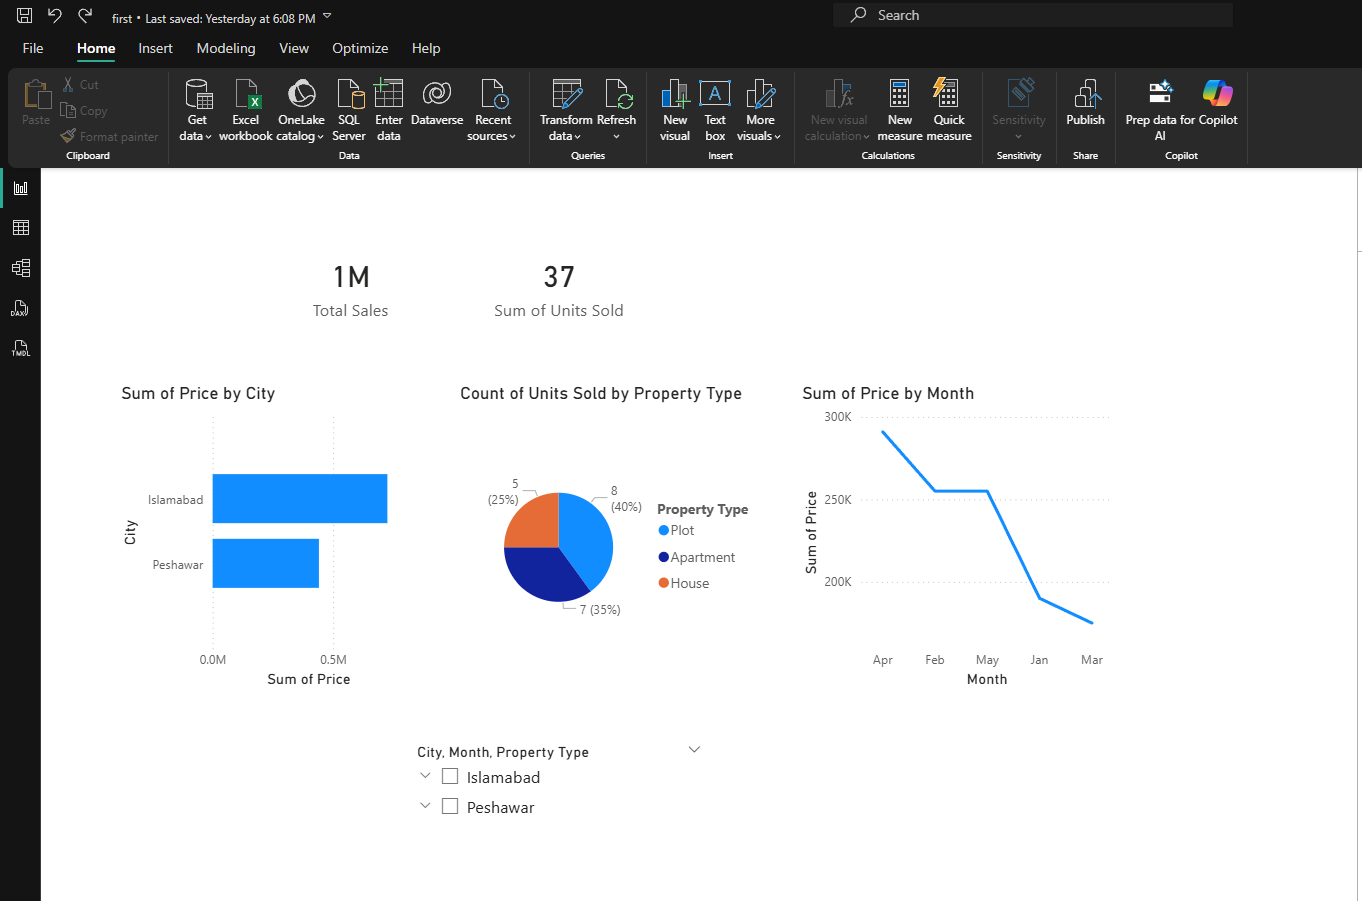

The page's visual inventory and layout, read from the dashboard file:
{"tool":"powerbi","page":{"name":"Page 1","canvas":[1280,720],"ordinal":0},"visuals":[{"type":"card","fields":{"Values":["Sum(SalesData.Units Sold)"]},"box":[444.5,60.3,160.5,98.2],"z":0},{"type":"card","fields":{"Values":["Sum(SalesData.Price)"]},"box":[228.6,60.3,144.9,98.2],"z":1000},{"type":"barChart","fields":{"Category":["SalesData.City"],"Y":["Sum(SalesData.Price)"]},"box":[72.9,209.1,300.5,300.5],"z":2000},{"type":"pieChart","fields":{"Category":["SalesData.Property Type"],"Y":["CountNonNull(SalesData.Units Sold)"]},"box":[402.7,209.1,300.5,300.5],"z":3000},{"type":"lineChart","fields":{"Category":["SalesData.Month"],"Y":["Sum(SalesData.Price)"]},"box":[735.3,209.1,312.2,300.5],"z":4000},{"type":"slicer","fields":{"Values":["SalesData.City","SalesData.Month","SalesData.Property Type"]},"box":[353.1,554.4,301.5,93.4],"z":5000}]}

Visuals, with their boxes on the page's 1280x720 design canvas (x1, y1, x2, y2). These are canvas units, not pixel positions in the 1362x901 screenshot, which may show the page scaled, cropped or inside an application window:
card - Sum(SalesData.Units Sold): 444, 60, 605, 158
card - Sum(SalesData.Price): 229, 60, 374, 158
barChart - SalesData.City x Sum(SalesData.Price): 73, 209, 373, 510
pieChart - SalesData.Property Type x CountNonNull(SalesData.Units Sold): 403, 209, 703, 510
lineChart - SalesData.Month x Sum(SalesData.Price): 735, 209, 1048, 510
slicer - SalesData.City x SalesData.Month: 353, 554, 655, 648
